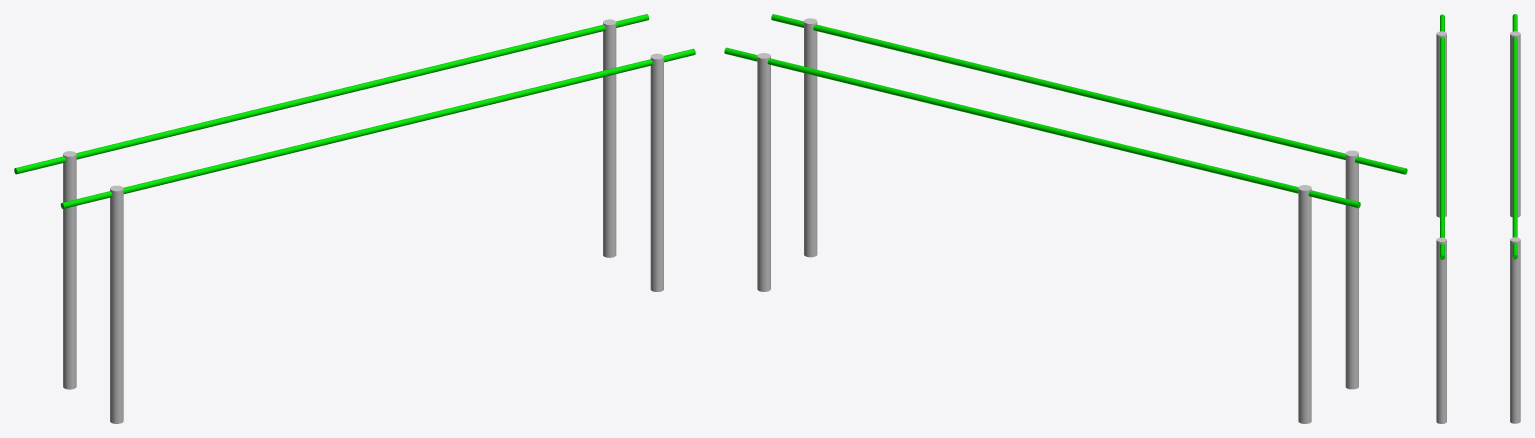
Rendered from brus.fbx.
The picture shows the model from 3 angles, left to right: view 1: azimuth 30°, elevation 25°; view 2: azimuth 150°, elevation 25°; view 3: azimuth 270°, elevation 25°; orthographic projection. The views are drawn at different scales.
Visible parts, largest first — view 1: Cylinder.005; view 2: Cylinder.005; view 3: Cylinder.005.
Part boxes in pixels (x1=…): Cylinder.005: x1=14, y1=14, x2=695, y2=423; Cylinder.005: x1=724, y1=14, x2=1407, y2=423; Cylinder.005: x1=1436, y1=14, x2=1520, y2=423.
Size of the model in its own units: 9192 by 3236 by 1355.
